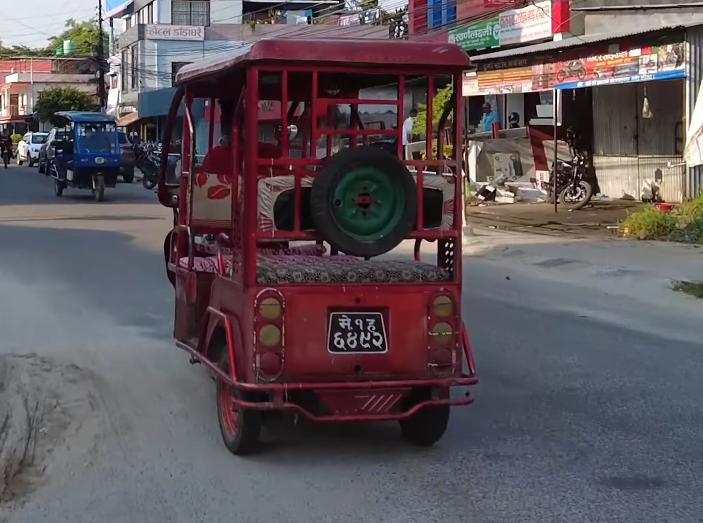bike: (554, 149, 592, 212)
e-rickshaw: (154, 26, 482, 468), (51, 108, 117, 202)
